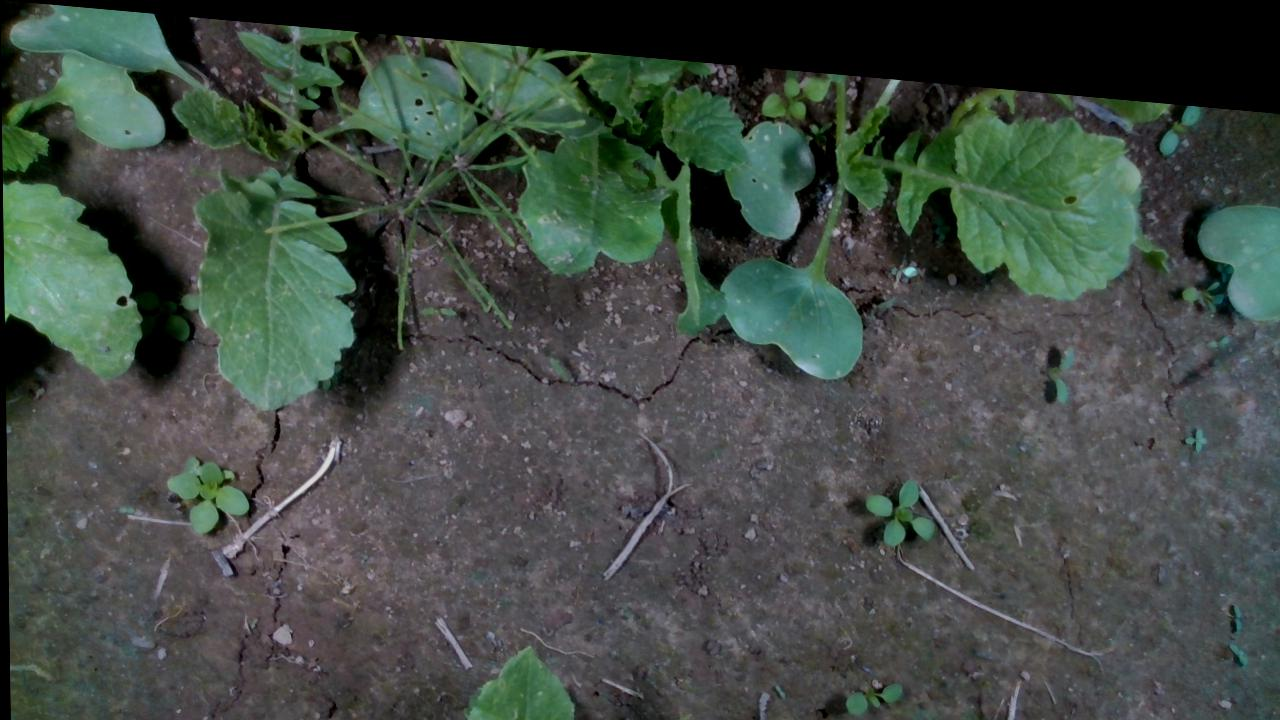weed: (832, 658, 905, 704)
